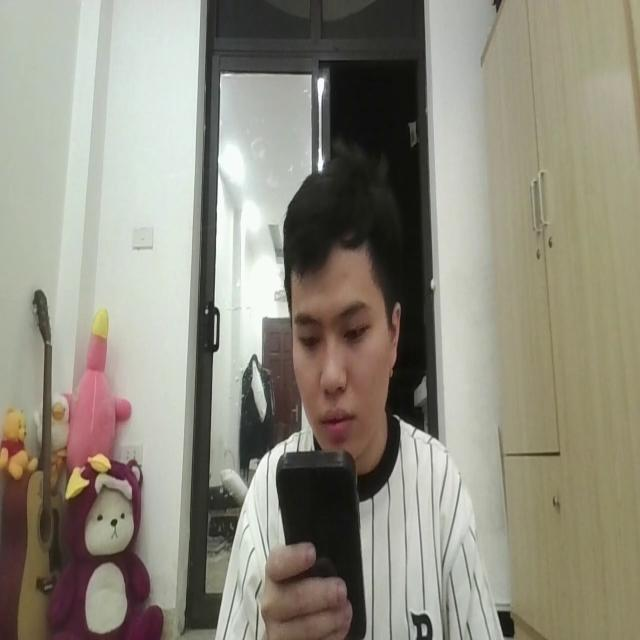phone: (276, 435, 371, 640)
student: (216, 161, 504, 640)
